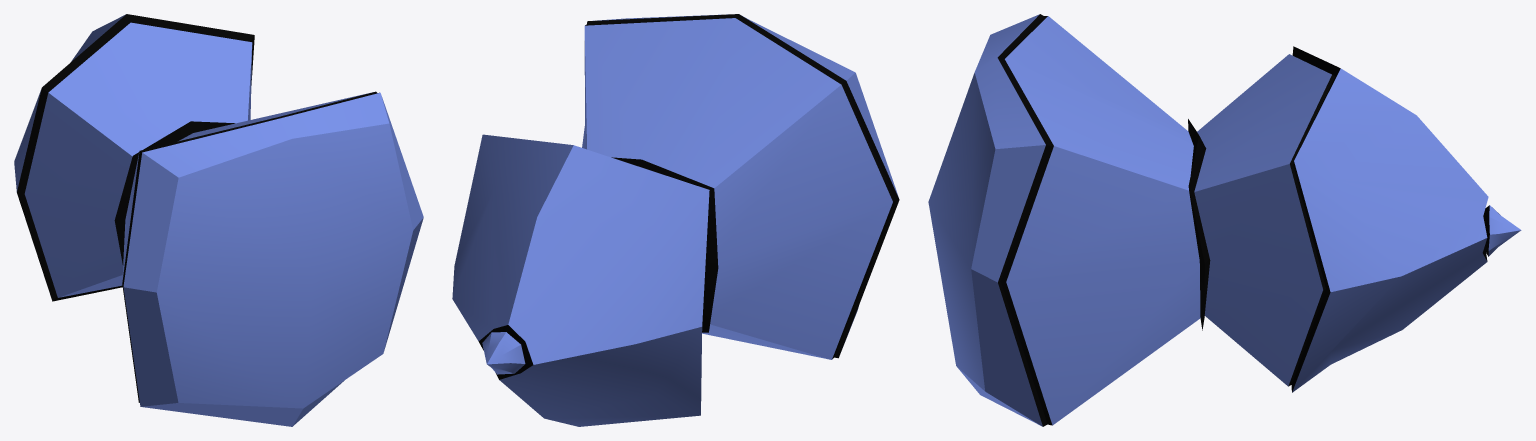
Rendered from marker.fbx.
The picture shows the model from 3 angles, left to right: view 1: azimuth 30°, elevation 25°; view 2: azimuth 150°, elevation 25°; view 3: azimuth 270°, elevation 25°; orthographic projection. The views are drawn at different scales.
Visible parts, largest first — view 1: Cube; view 2: Cube; view 3: Cube.
Part boxes in pixels (box(x1,y1,x2,y2)): Cube: box(14, 14, 423, 426); Cube: box(452, 14, 899, 426); Cube: box(928, 14, 1521, 426).
Bounding box in the file's own units: 1.13 × 1.1 × 1.76.
